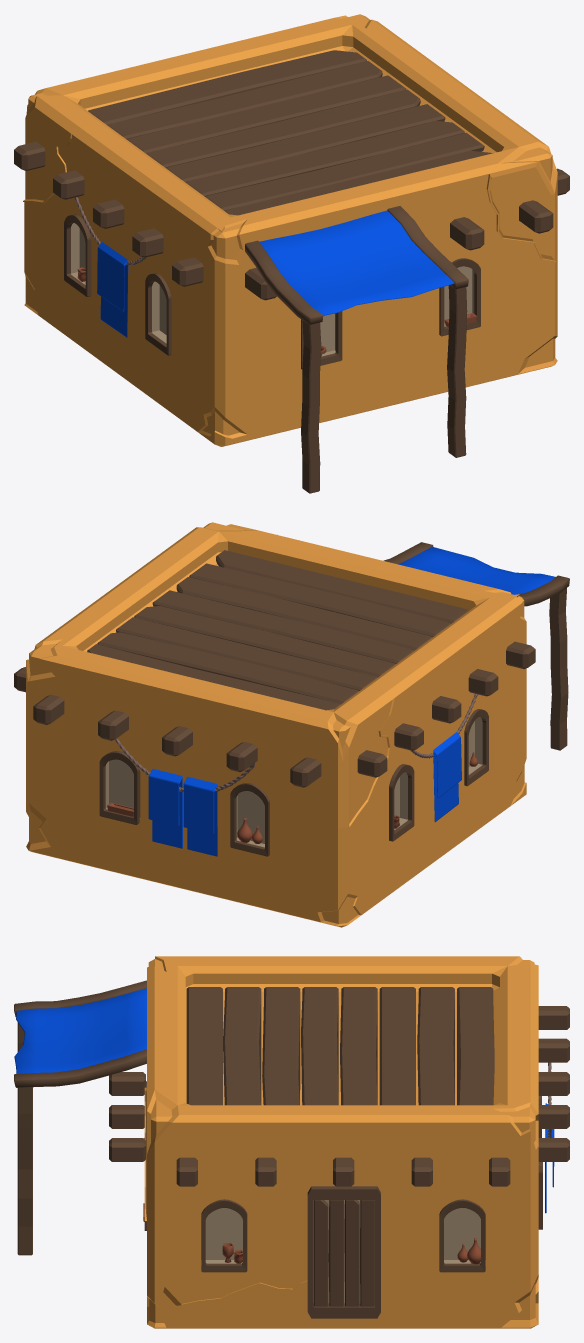
File: HOUSE02.fbx
3 views of the same model, one above another, from view 1: azimuth 30°, elevation 25°; view 2: azimuth 150°, elevation 25°; view 3: azimuth 270°, elevation 25° (orthographic). The views are drawn at different scales.
Parts seen in each view (by area): view 1: ev2; view 2: ev2; view 3: ev2.
Boxes of the visible parts, x1,y1,x2,y2 form: ev2: (14, 14, 569, 493); ev2: (14, 522, 569, 927); ev2: (14, 956, 569, 1328).
Size of the model in its own units: 1.14 by 0.6038 by 1.42.
